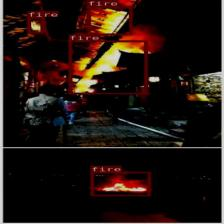fire: (68, 40, 147, 94), (90, 171, 150, 196), (86, 6, 132, 35), (26, 17, 44, 34)
